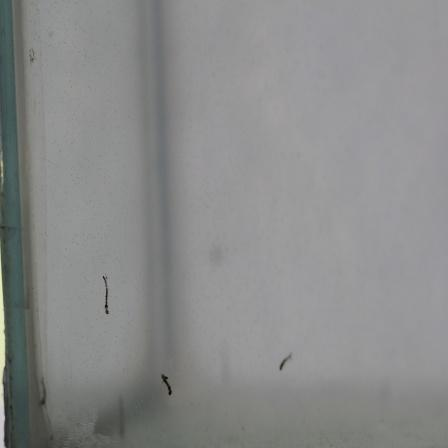Jentik-Nyamuk: (273, 348, 296, 376), (100, 272, 114, 317), (156, 369, 175, 397)
